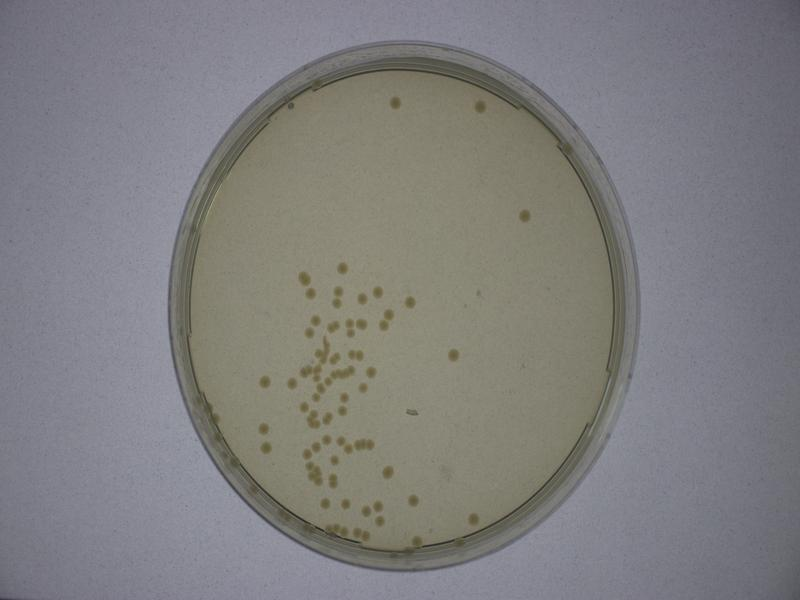colony: (443, 344, 461, 362), (517, 209, 533, 224), (465, 512, 481, 527), (387, 95, 401, 112), (406, 494, 420, 510), (256, 376, 271, 390), (256, 421, 271, 435), (473, 100, 487, 114)
